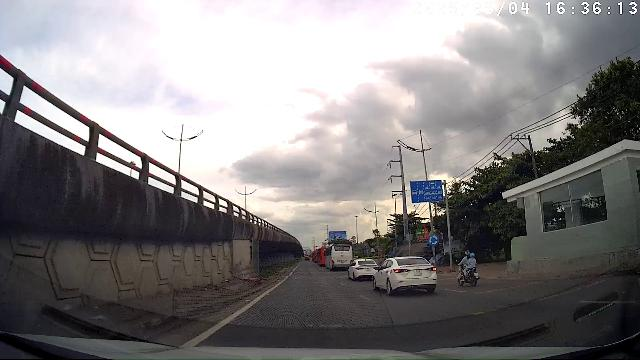303-noi-giao-nhau-chay-theo-vong-xuyen: (428, 234, 439, 246)
